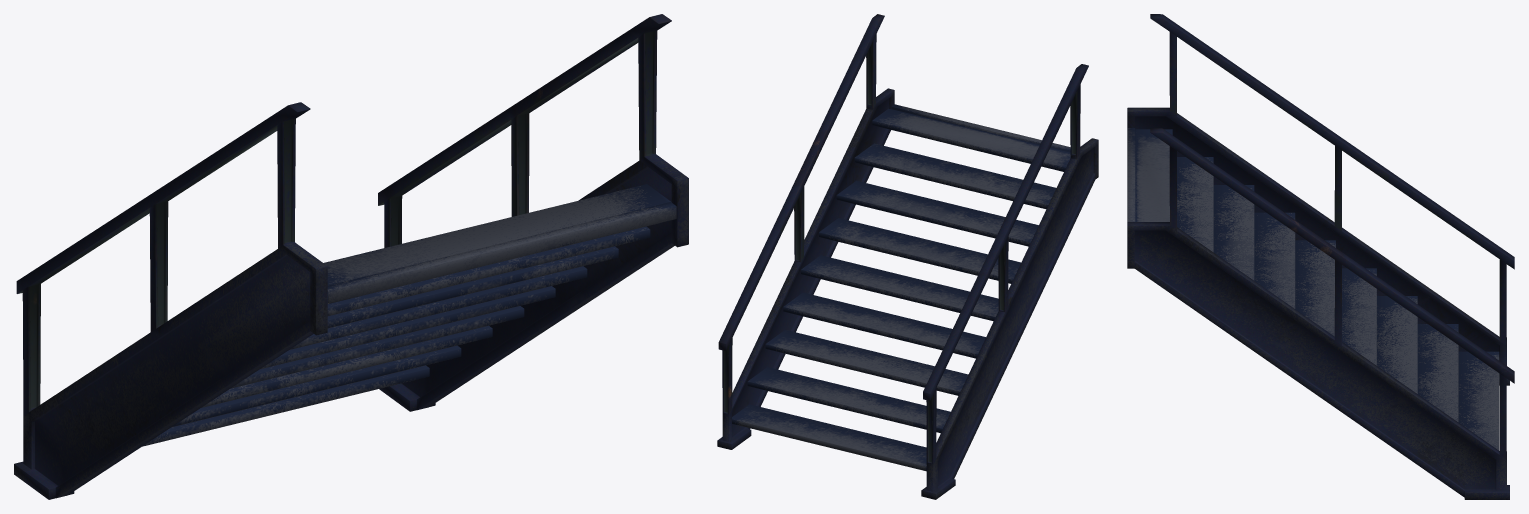
Rendered from stairs.gltf.
The picture shows the model from 3 angles, left to right: view 1: azimuth 30°, elevation 25°; view 2: azimuth 150°, elevation 25°; view 3: azimuth 270°, elevation 25°; orthographic projection. The views are drawn at different scales.
Parts seen in each view (by area): view 1: stairs; view 2: stairs; view 3: stairs.
Part boxes in pixels (x1,y1,x2,y2): stairs: (14,14,688,499); stairs: (717,14,1098,499); stairs: (1127,14,1514,499).
Bounding box in the file's own units: 2.06 × 2.87 × 2.76.
1 material, 1 textured.
